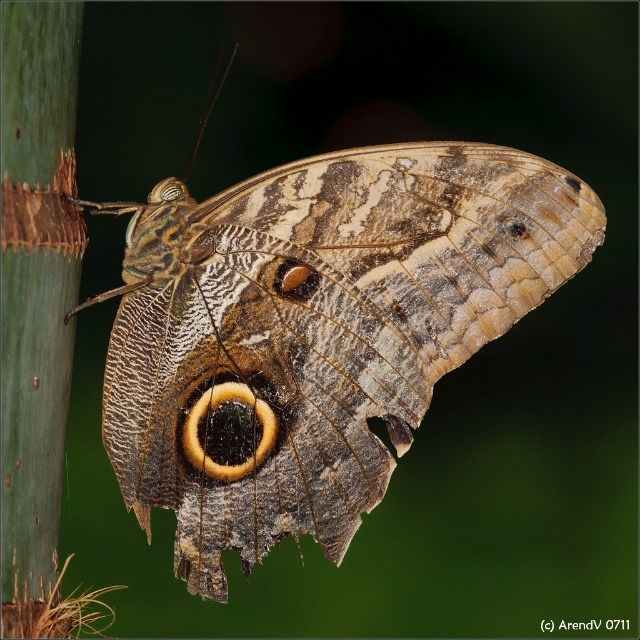Butterfly: (103, 136, 611, 561)
